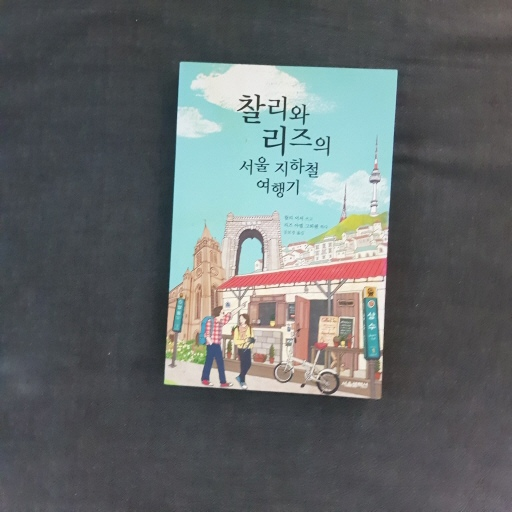Paper_0: (159, 56, 407, 411)
